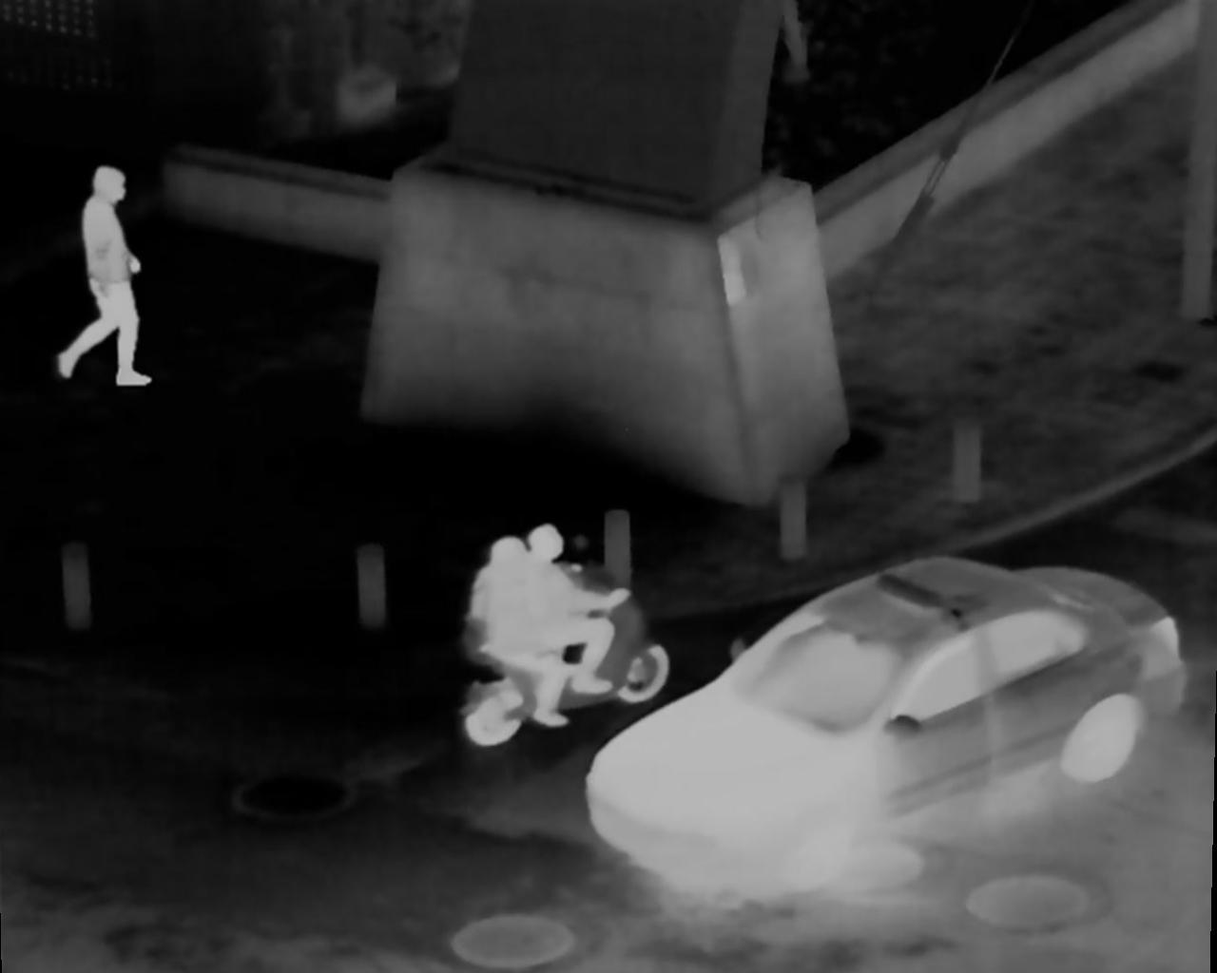person: (63, 169, 153, 389), (473, 540, 565, 729), (525, 523, 616, 695)
